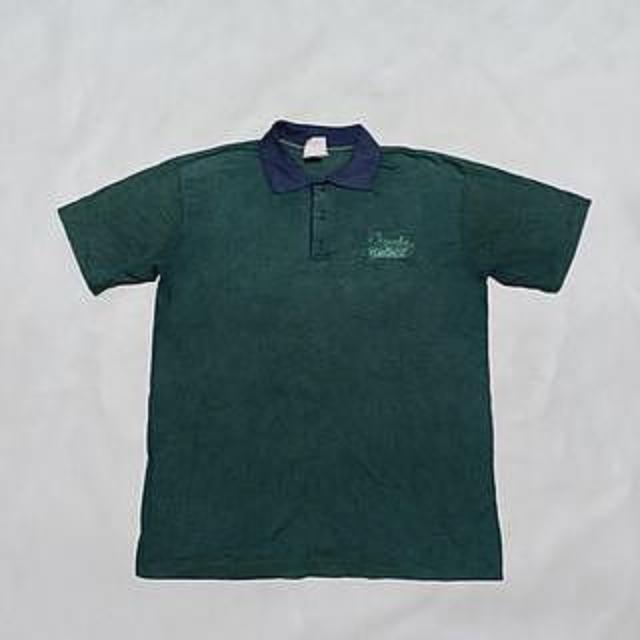T_SHIRT: (46, 113, 599, 591)
